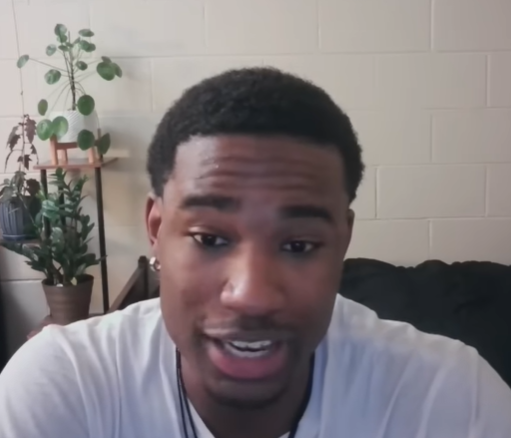person: (0, 64, 510, 438)
